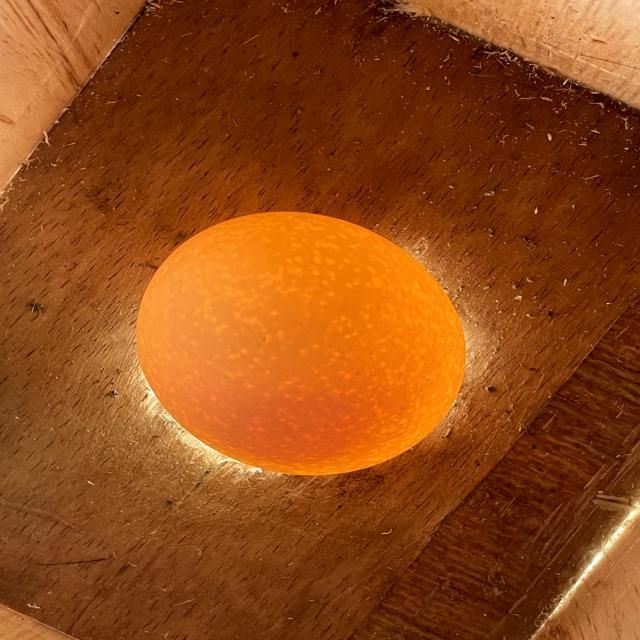infertile: (137, 212, 465, 475)
